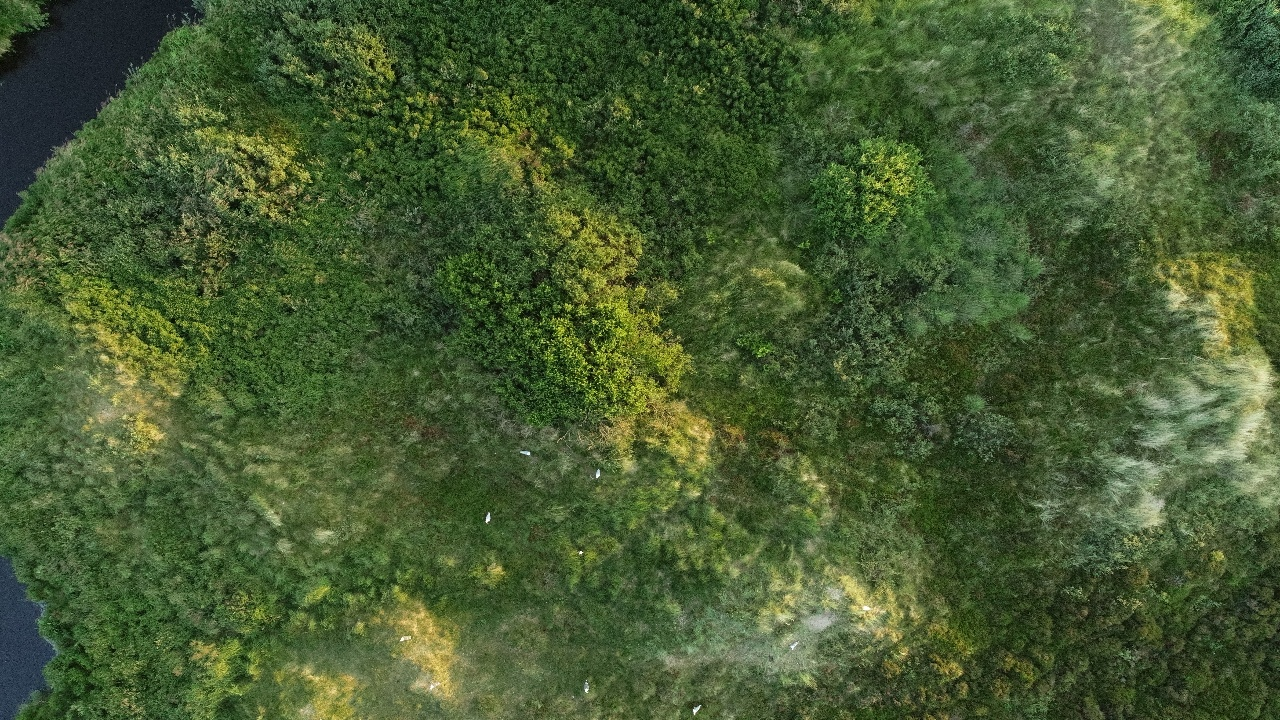Bird: (472, 503, 505, 534), (511, 439, 544, 470), (582, 457, 615, 488), (571, 675, 604, 706), (685, 689, 718, 720), (778, 633, 811, 664), (853, 595, 886, 626), (391, 623, 424, 654), (421, 670, 454, 701)
